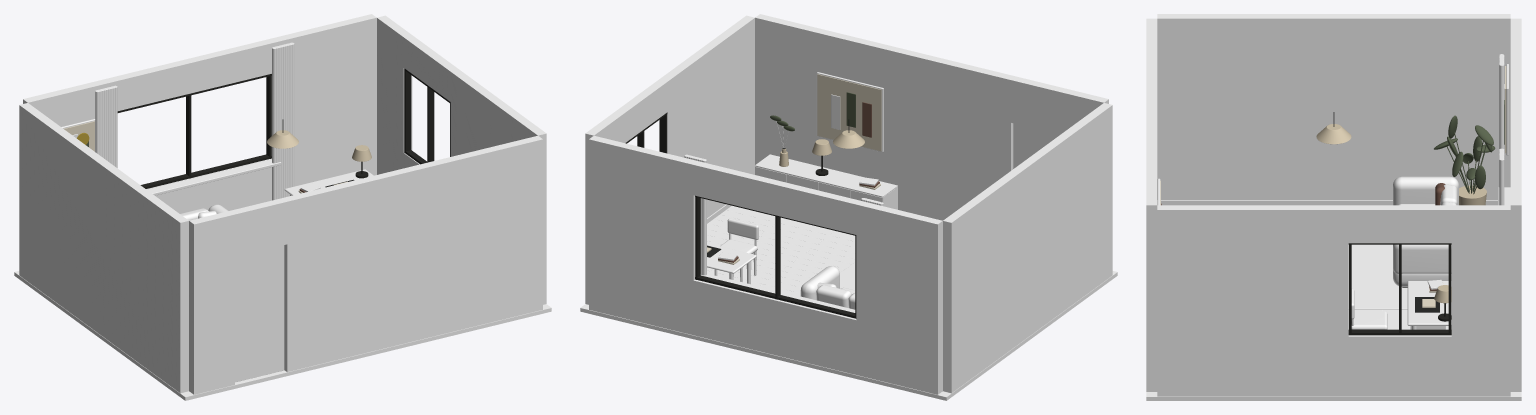
3 views of the same model, side by side, from view 1: azimuth 30°, elevation 25°; view 2: azimuth 150°, elevation 25°; view 3: azimuth 270°, elevation 25° (orthographic). The views are drawn at different scales.
Parts seen in each view (by area): view 1: south plaster wall.002, west plaster wall, north plaster wall.003, south plaster wall, Flush timber door, north plaster wall.002, east plaster wall, east plaster wall.003, north plaster wall.001, Continuous subfloor, south plaster wall.001, north plaster wall (+8 smaller); view 2: south plaster wall.002, west plaster wall, north plaster wall.003, north plaster wall, east plaster wall, north plaster wall.001, north plaster wall.002, Sideboard art linen, Continuous subfloor, south plaster wall.001, east plaster wall.002, Top panel 20mm (+18 smaller); view 3: west plaster wall, east plaster wall, east plaster wall.003, east plaster wall.001, east plaster wall.002, south plaster wall.002, Bound wool area rug, north plaster wall.003, Continuous subfloor, Rounded upholstered arm.001, Painted baseboard.003, Rounded upholstered arm (+11 smaller).
Boxes of the visible parts, left/top/right/bottom form: south plaster wall.002: left=282, top=135, right=542, bottom=371; west plaster wall: left=19, top=103, right=188, bottom=393; north plaster wall.003: left=267, top=14, right=376, bottom=186; south plaster wall: left=189, top=211, right=234, bottom=394; Flush timber door: left=235, top=245, right=284, bottom=382; north plaster wall.002: left=104, top=39, right=272, bottom=110; east plaster wall: left=450, top=69, right=546, bottom=304; east plaster wall.003: left=377, top=15, right=412, bottom=174; north plaster wall.001: left=146, top=158, right=271, bottom=213; Continuous subfloor: left=14, top=271, right=551, bottom=400; south plaster wall.001: left=230, top=198, right=287, bottom=256; north plaster wall: left=23, top=79, right=109, bottom=126; south plaster wall.002: left=755, top=14, right=1015, bottom=220; west plaster wall: left=943, top=103, right=1112, bottom=393; north plaster wall.003: left=589, top=135, right=698, bottom=335; north plaster wall: left=856, top=201, right=942, bottom=394; east plaster wall: left=659, top=15, right=754, bottom=217; north plaster wall.001: left=693, top=279, right=856, bottom=374; north plaster wall.002: left=693, top=161, right=860, bottom=234; Sideboard art linen: left=817, top=74, right=881, bottom=151; Continuous subfloor: left=580, top=271, right=1117, bottom=400; south plaster wall.001: left=1011, top=76, right=1067, bottom=134; east plaster wall.002: left=612, top=79, right=667, bottom=142; Top panel 20mm: left=755, top=154, right=897, bottom=197; west plaster wall: left=1157, top=14, right=1510, bottom=199; east plaster wall: left=1157, top=205, right=1348, bottom=396; east plaster wall.003: left=1451, top=205, right=1510, bottom=396; east plaster wall.001: left=1348, top=335, right=1451, bottom=396; east plaster wall.002: left=1348, top=205, right=1451, bottom=243; south plaster wall.002: left=1146, top=68, right=1157, bottom=391; Bound wool area rug: left=1348, top=244, right=1407, bottom=309; north plaster wall.003: left=1510, top=149, right=1521, bottom=391; Continuous subfloor: left=1146, top=310, right=1521, bottom=400; Rounded upholstered arm.001: left=1393, top=244, right=1451, bottom=273; Painted baseboard.003: left=1161, top=200, right=1497, bottom=205; Rounded upholstered arm: left=1393, top=176, right=1458, bottom=205.
Bounding box in the file's own units: 6.3 × 2.87 × 5.1.
